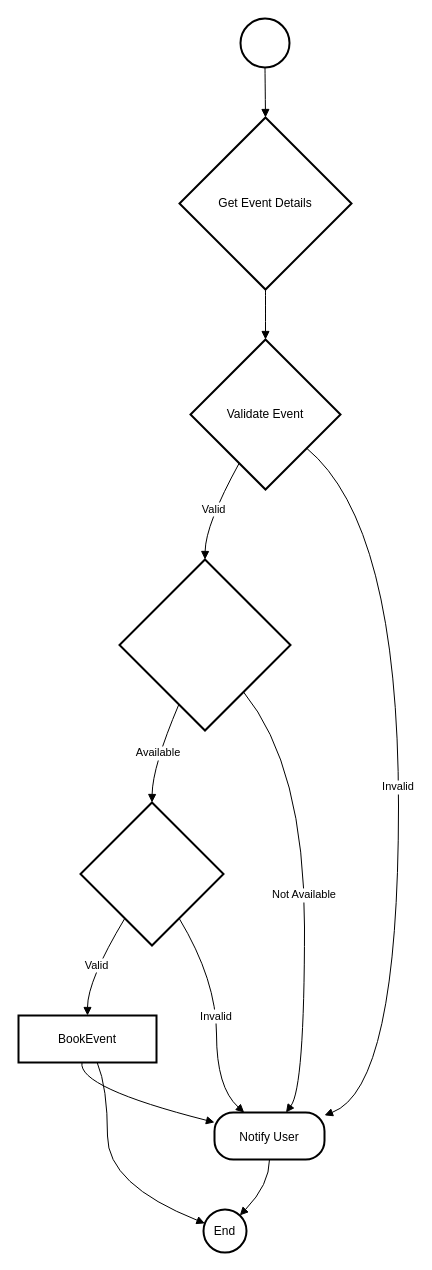
Image size: 432x1270. Some labels were removed from this diagram. The centre of each missing label's shape, as x and y in pixels:
Check Availability: the point at 204,644
Start: the point at 264,42
Validate User: the point at 151,873
